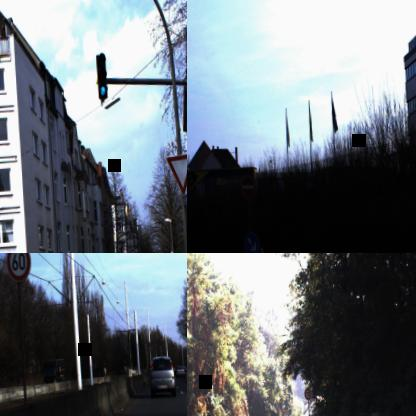NO ENTRY: (240, 174, 255, 199)
give way: (165, 151, 187, 196)
keep right: (243, 230, 260, 253)
speed limit 60: (5, 253, 32, 282)
speed limit 70: (303, 388, 311, 400)
